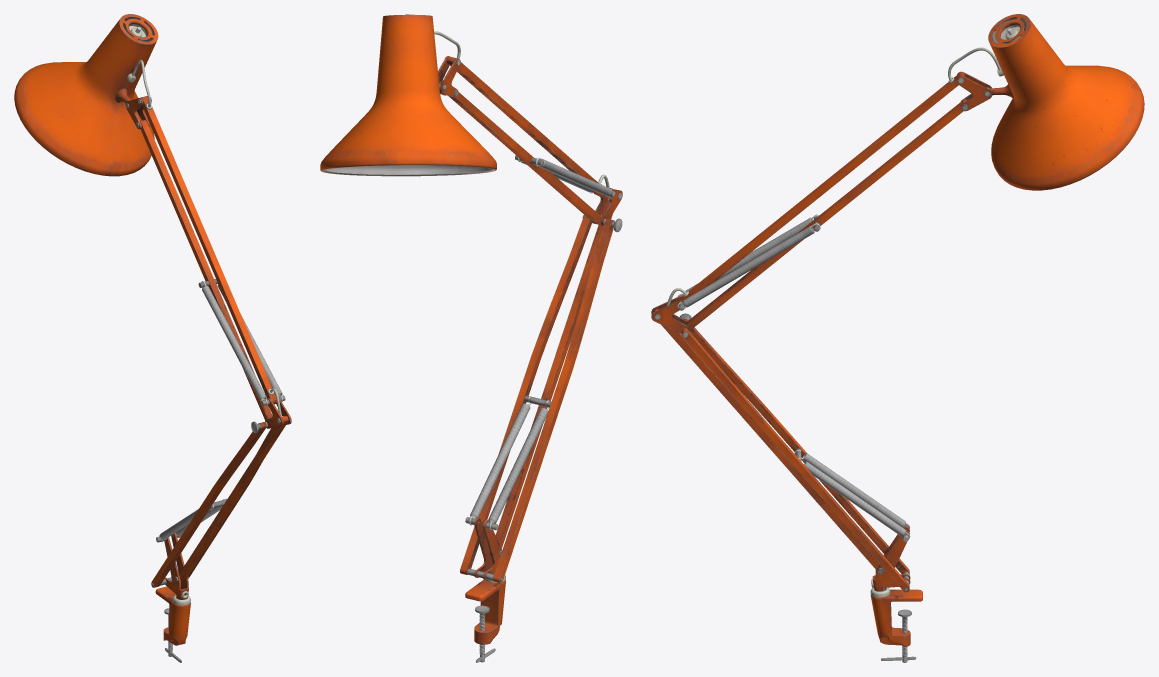
Rendered from desk_lamp_arm_01.glb.
3 views of the same model, side by side, from view 1: azimuth 30°, elevation 25°; view 2: azimuth 150°, elevation 25°; view 3: azimuth 270°, elevation 25° (orthographic). The views are drawn at different scales.
Visible parts, largest first — view 1: desk_lamp_arm_01; view 2: desk_lamp_arm_01; view 3: desk_lamp_arm_01.
Part boxes in pixels (x1=…): desk_lamp_arm_01: x1=14, y1=14, x2=291, y2=662; desk_lamp_arm_01: x1=320, y1=14, x2=622, y2=662; desk_lamp_arm_01: x1=651, y1=14, x2=1144, y2=662.
Size of the model in its own units: 0.2017 by 0.8926 by 0.6139.
2 materials, 2 textured.
